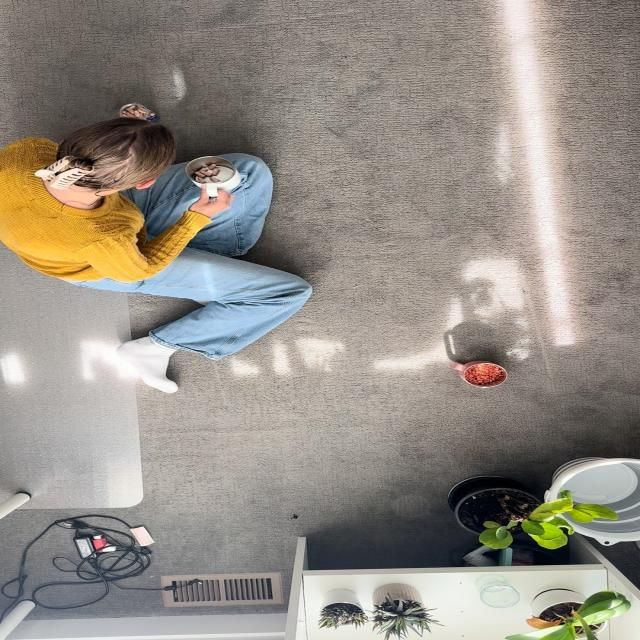IBC: (185, 156, 240, 198), (451, 360, 507, 388)
